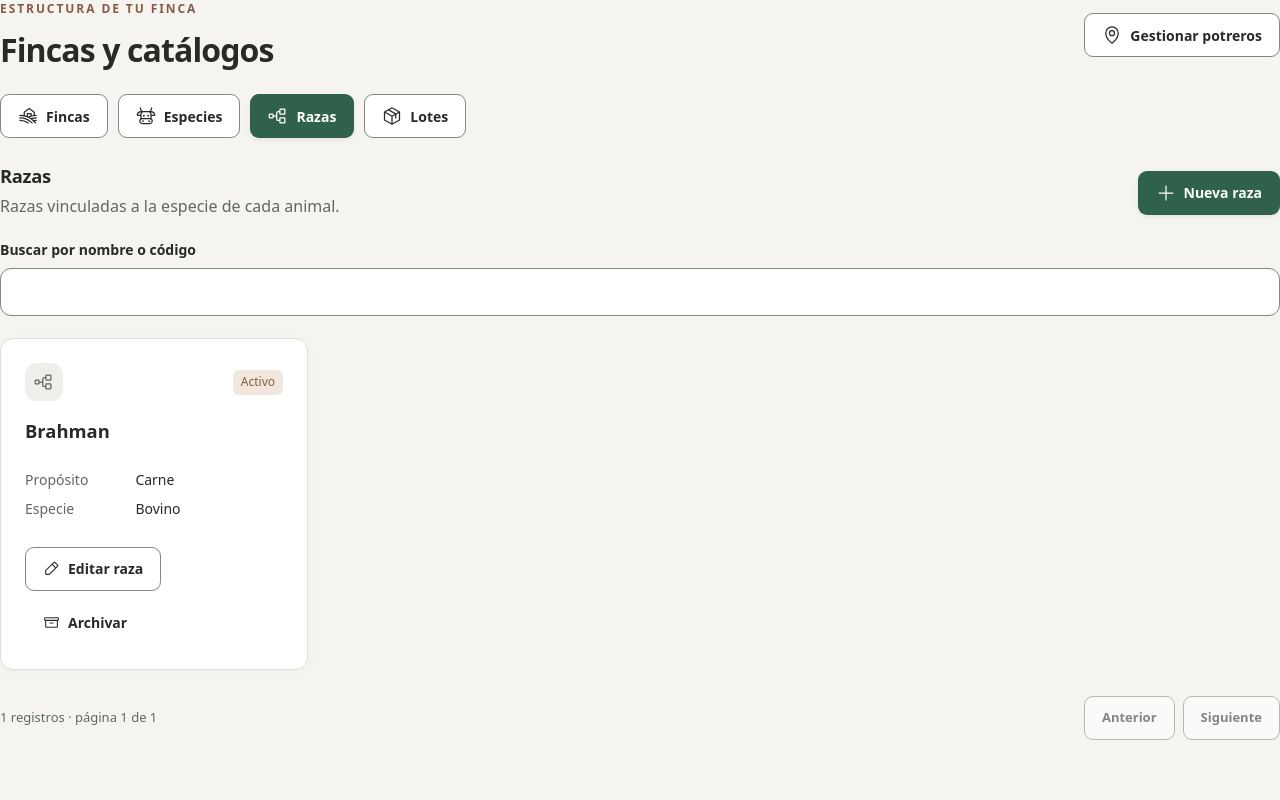
Scenario: creates a breeds record through its protected endpoint
The image size is (1280, 800).
Click the button "Nueva raza". click: {"x": 1209, "y": 193}
box: left=1138, top=171, right=1279, bottom=215
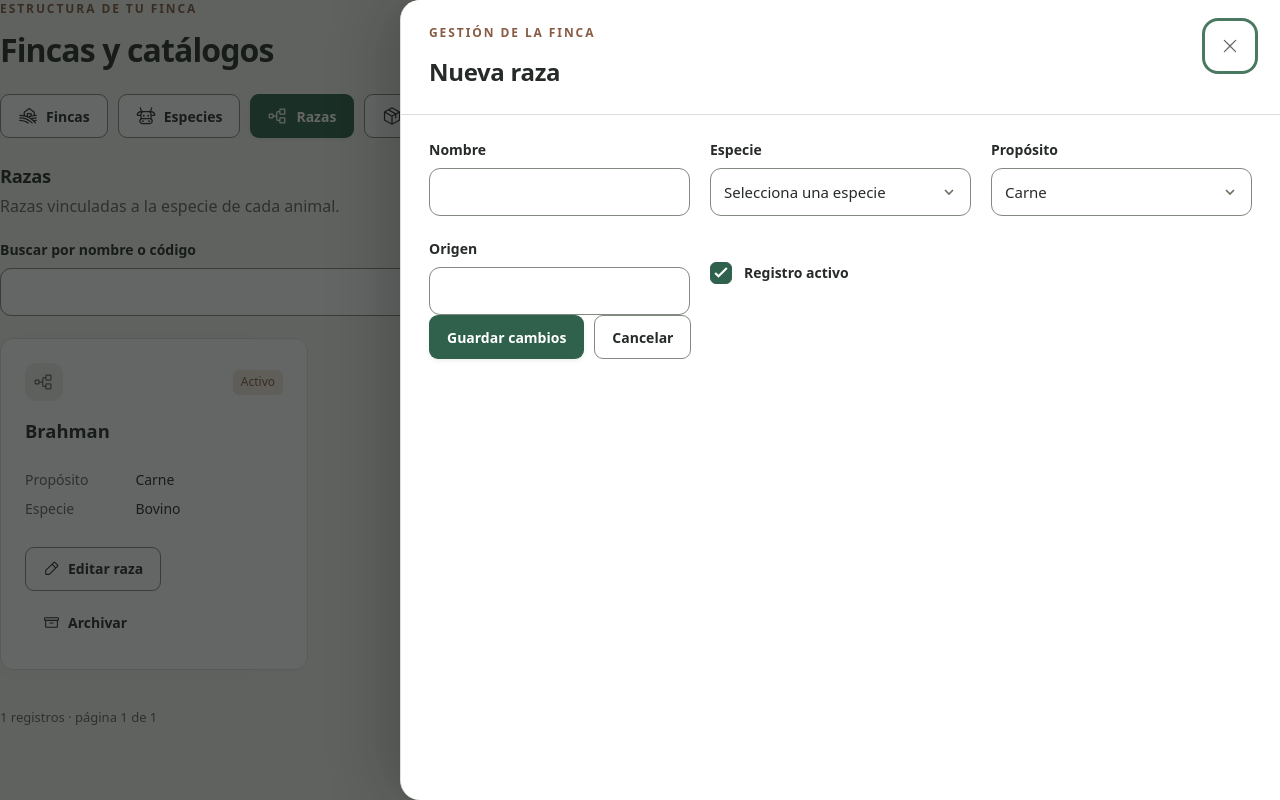
Type "Registro nuevo" into the field labelled "Nombre". click: {"x": 560, "y": 192}
box: left=429, top=168, right=690, bottom=216
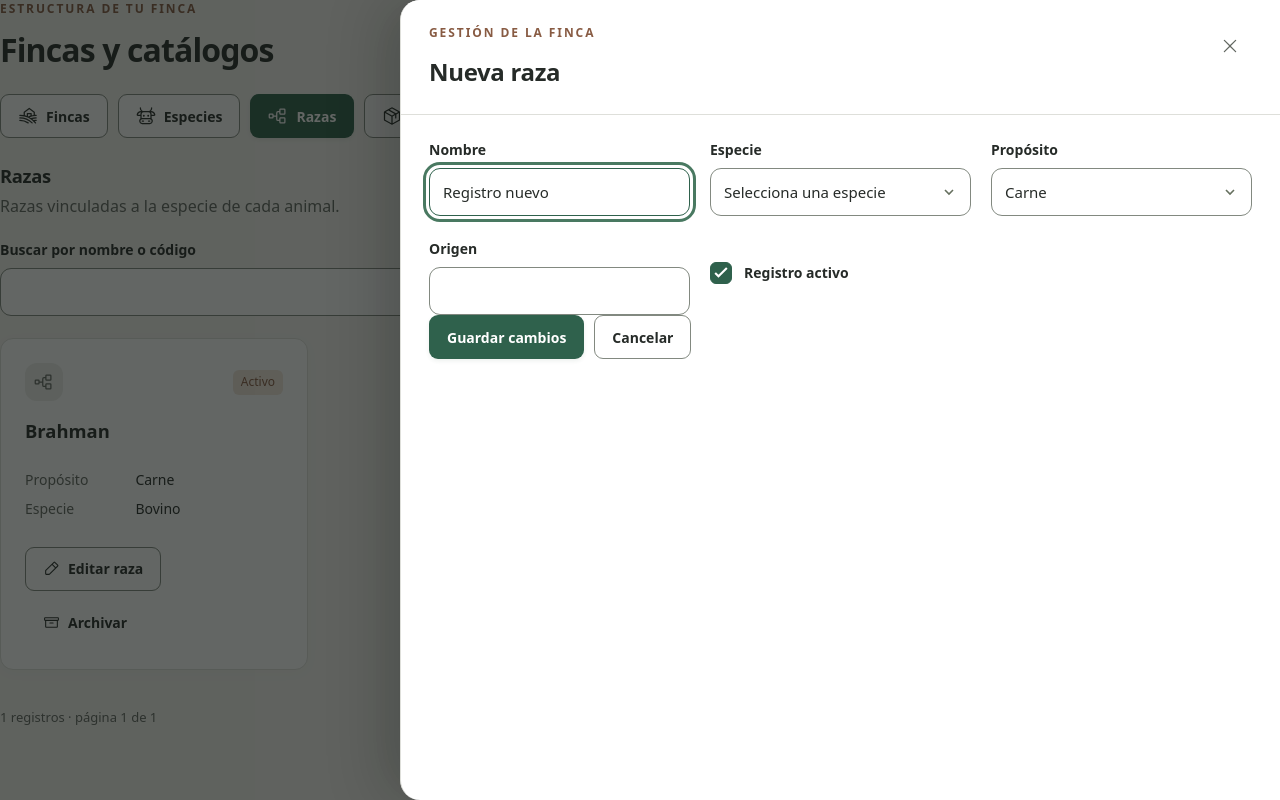
Select "Bovino" in the dropdown labelled "Especie". click: {"x": 840, "y": 192}
box: left=710, top=168, right=971, bottom=216
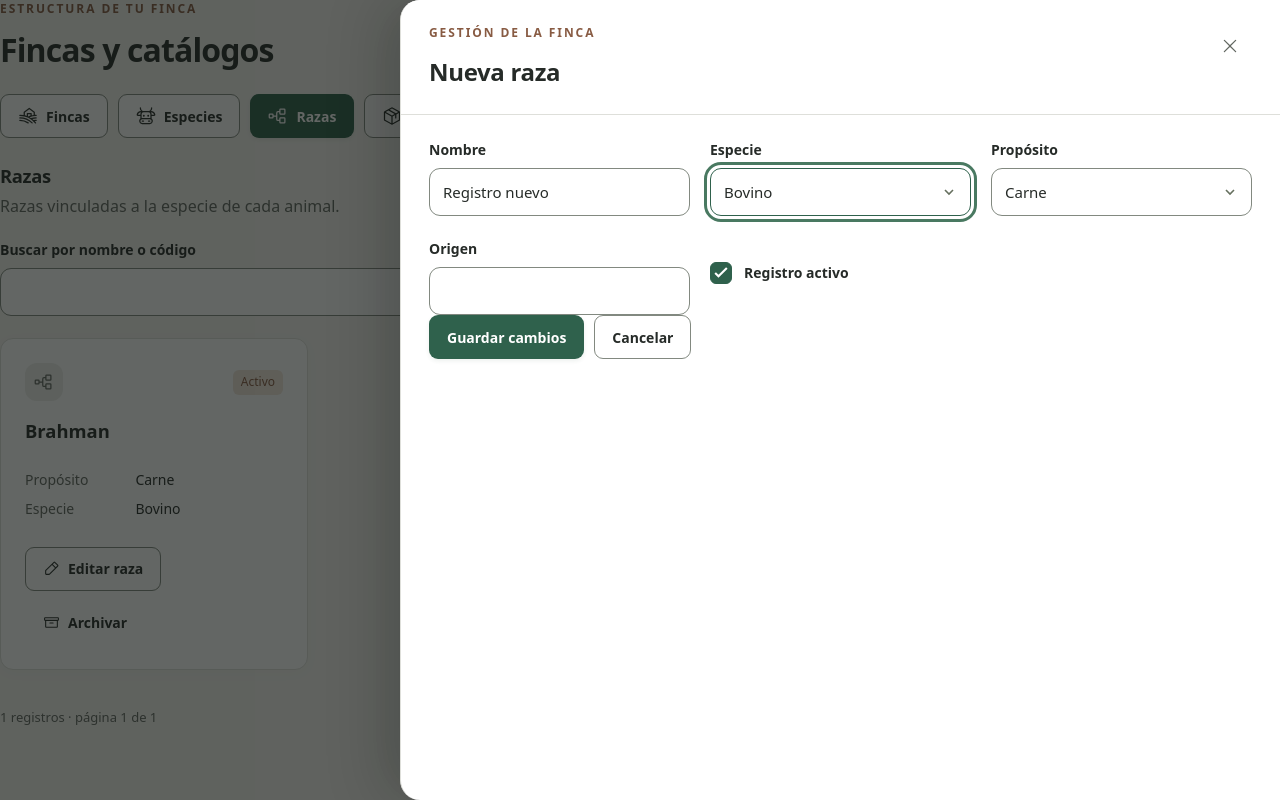
Click the button "Guardar cambios". click: {"x": 507, "y": 337}
box: left=429, top=315, right=584, bottom=359
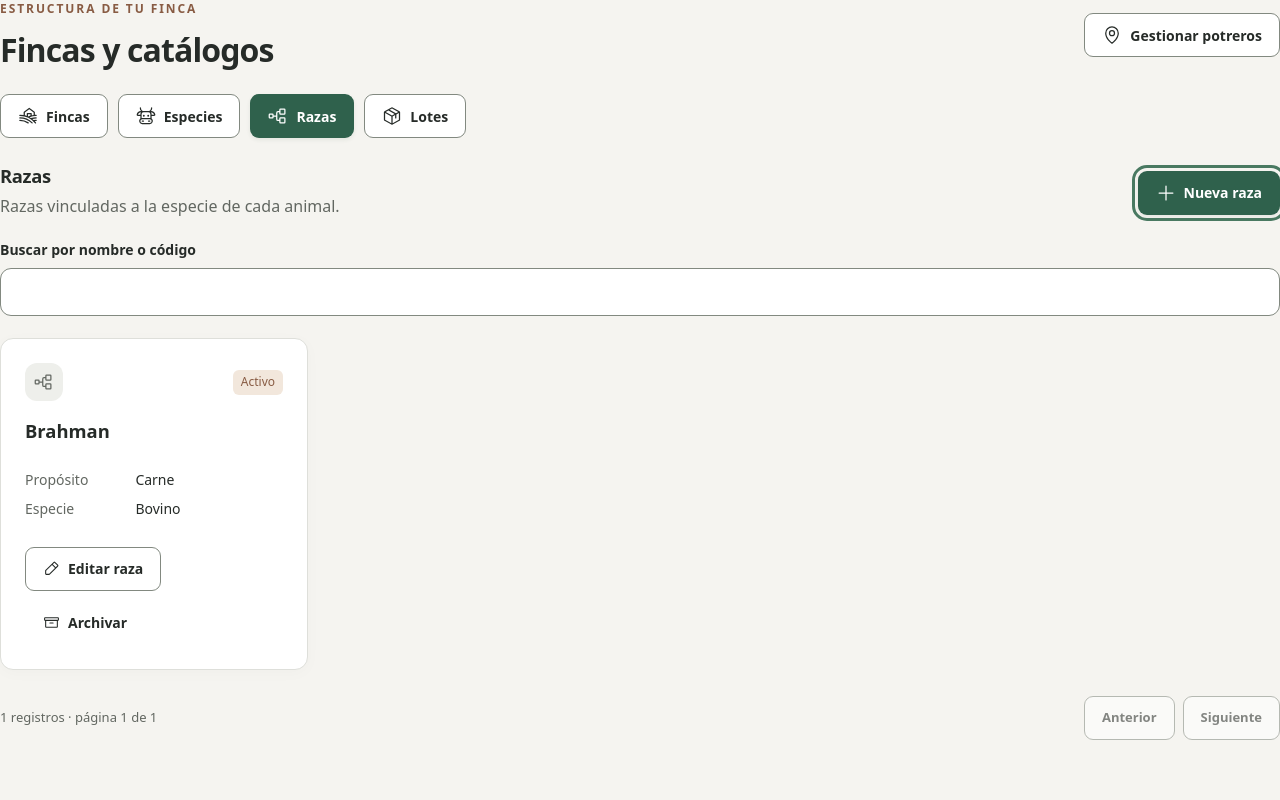
Result: the dialog is gone
